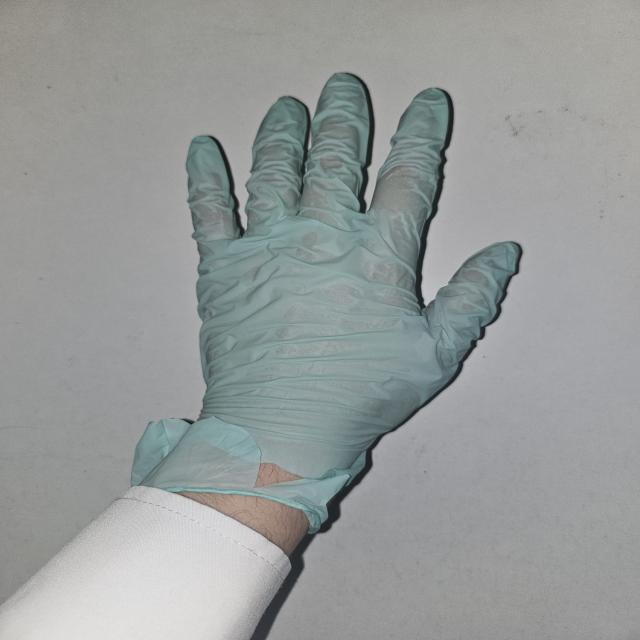gloves_damaged: (124, 72, 522, 536)
